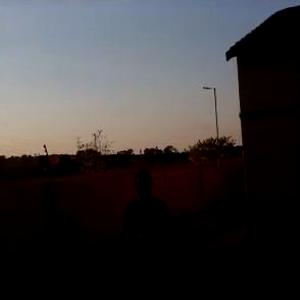follow: (121, 164, 180, 299)
